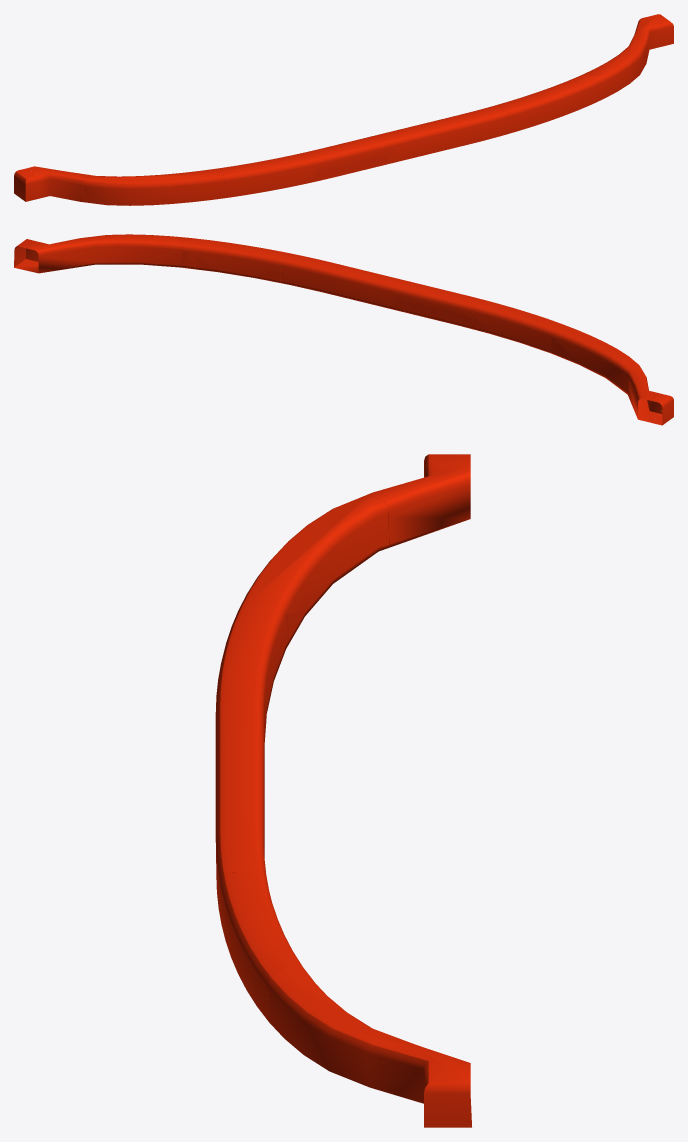
File: EdgePieces.fbx
The picture shows the model from 3 angles, top to bottom: view 1: azimuth 30°, elevation 25°; view 2: azimuth 150°, elevation 25°; view 3: azimuth 270°, elevation 25°; orthographic projection. The views are drawn at different scales.
Visible parts, largest first — view 1: Frame.002_cell.006, Frame.002_cell, Frame.002_cell.005, Frame.002_cell.001, Frame.002_cell.009, Frame.002_cell.007, Frame.002_cell.004, Frame.002_cell.002, Frame.002_cell.010, Frame.002_cell.008; view 2: Frame.002_cell.001, Frame.002_cell, Frame.002_cell.006, Frame.002_cell.009, Frame.002_cell.005, Frame.002_cell.007, Frame.002_cell.004, Frame.002_cell.002, Frame.002_cell.010, Frame.002_cell.008; view 3: Frame.002_cell.001, Frame.002_cell.006, Frame.002_cell, Frame.002_cell.004, Frame.002_cell.009, Frame.002_cell.005, Frame.002_cell.007, Frame.002_cell.008.
Part boxes in pixels (x1,y1,x2,y2): Frame.002_cell.006: (84, 168, 224, 205); Frame.002_cell: (375, 104, 508, 164); Frame.002_cell.005: (218, 152, 317, 198); Frame.002_cell.001: (580, 14, 673, 97); Frame.002_cell.009: (498, 80, 584, 133); Frame.002_cell.007: (308, 135, 384, 171); Frame.002_cell.004: (27, 166, 86, 202); Frame.002_cell.002: (313, 155, 386, 182); Frame.002_cell.010: (14, 168, 38, 201); Frame.002_cell.008: (570, 75, 605, 107); Frame.002_cell.001: (14, 234, 183, 273); Frame.002_cell: (280, 253, 417, 311); Frame.002_cell.006: (551, 325, 644, 396); Frame.002_cell.009: (195, 239, 290, 282); Frame.002_cell.005: (472, 300, 564, 353); Frame.002_cell.007: (406, 283, 484, 316); Frame.002_cell.004: (629, 374, 661, 422); Frame.002_cell.002: (404, 301, 477, 330); Frame.002_cell.010: (649, 393, 673, 425); Frame.002_cell.008: (175, 236, 200, 269); Frame.002_cell.001: (268, 962, 471, 1127); Frame.002_cell.006: (241, 495, 389, 647); Frame.002_cell: (215, 751, 267, 914); Frame.002_cell.004: (366, 464, 470, 547); Frame.002_cell.009: (219, 872, 294, 997); Frame.002_cell.005: (216, 601, 286, 723); Frame.002_cell.007: (215, 685, 264, 760); Frame.002_cell.008: (251, 950, 300, 1023).
Bounding box in the file's own units: 3772 × 123 × 646.
